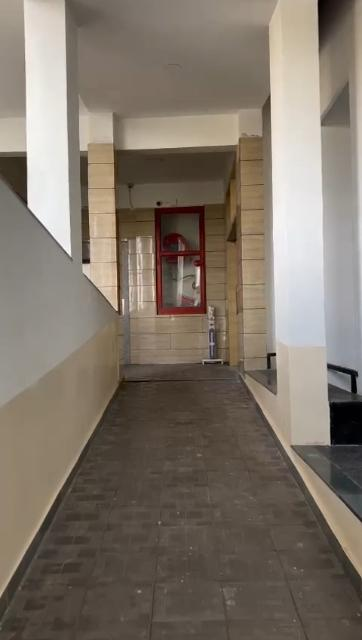floor: (0, 364, 362, 640)
wall: (0, 2, 121, 591), (265, 1, 329, 442), (93, 98, 152, 370), (198, 204, 234, 302), (242, 140, 256, 356), (154, 318, 204, 366)
